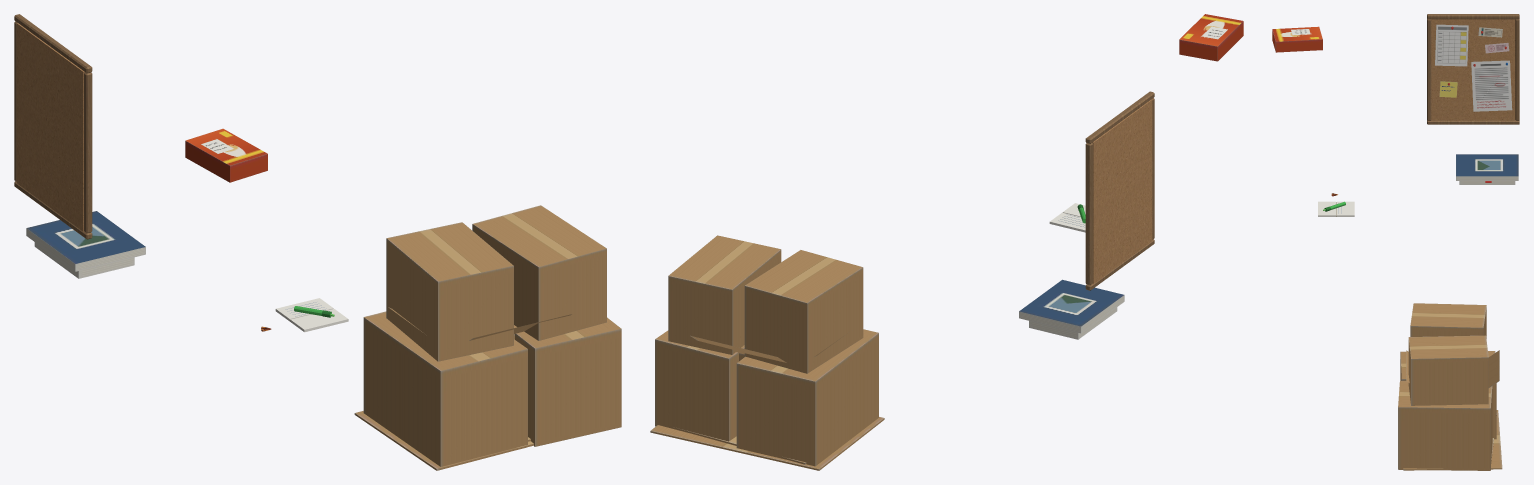
Rendered from dorm_y2_items.glb.
3 views of the same model, side by side, from view 1: azimuth 30°, elevation 25°; view 2: azimuth 150°, elevation 25°; view 3: azimuth 270°, elevation 25° (orthographic). The views are drawn at different scales.
Parts seen in each view (by area): view 1: Y2_boxes_closed, y2_board_cork, ITEM_y1_album_book, y2_board_frame, ITEM_noodle_pack, ITEM_green_pen, Y2_boxes_open, ITEM_civ_book; view 2: Y2_boxes_closed, y2_board_cork, ITEM_y1_album_book, y2_board_frame, Y2_boxes_open, ITEM_noodle_pack, ITEM_green_pen; view 3: Y2_boxes_closed, y2_board_cork, y2_board_frame, ITEM_report_paper, ITEM_y1_album_book, ITEM_duty_paper, ITEM_noodle_pack, Y2_boxes_open, ITEM_green_pen, ITEM_sticky_paper.
Part boxes in pixels (bbox=[...]): Y2_boxes_closed: bbox=[363, 205, 621, 466]; y2_board_cork: bbox=[17, 23, 84, 231]; ITEM_y1_album_book: bbox=[26, 211, 145, 271]; y2_board_frame: bbox=[14, 14, 92, 239]; ITEM_noodle_pack: bbox=[185, 128, 267, 182]; ITEM_green_pen: bbox=[275, 298, 348, 332]; Y2_boxes_open: bbox=[354, 307, 571, 470]; ITEM_civ_book: bbox=[34, 242, 134, 278]; Y2_boxes_closed: bbox=[655, 235, 878, 466]; y2_board_cork: bbox=[1092, 99, 1152, 283]; ITEM_y1_album_book: bbox=[1019, 279, 1124, 333]; y2_board_frame: bbox=[1085, 91, 1154, 290]; Y2_boxes_open: bbox=[650, 332, 884, 470]; ITEM_noodle_pack: bbox=[1179, 14, 1243, 61]; ITEM_green_pen: bbox=[1049, 203, 1085, 232]; Y2_boxes_closed: bbox=[1398, 303, 1496, 470]; y2_board_cork: bbox=[1431, 19, 1515, 120]; y2_board_frame: bbox=[1427, 14, 1519, 124]; ITEM_report_paper: bbox=[1471, 60, 1512, 111]; ITEM_y1_album_book: bbox=[1456, 154, 1518, 180]; ITEM_duty_paper: bbox=[1435, 24, 1468, 66]; ITEM_noodle_pack: bbox=[1272, 26, 1322, 52]; Y2_boxes_open: bbox=[1403, 350, 1502, 470]; ITEM_green_pen: bbox=[1318, 201, 1354, 216]; ITEM_sticky_paper: bbox=[1439, 81, 1457, 97].
Size of the model in its own units: 1.76 by 1.52 by 1.15.
Materials: 4 (3 with a texture image).
